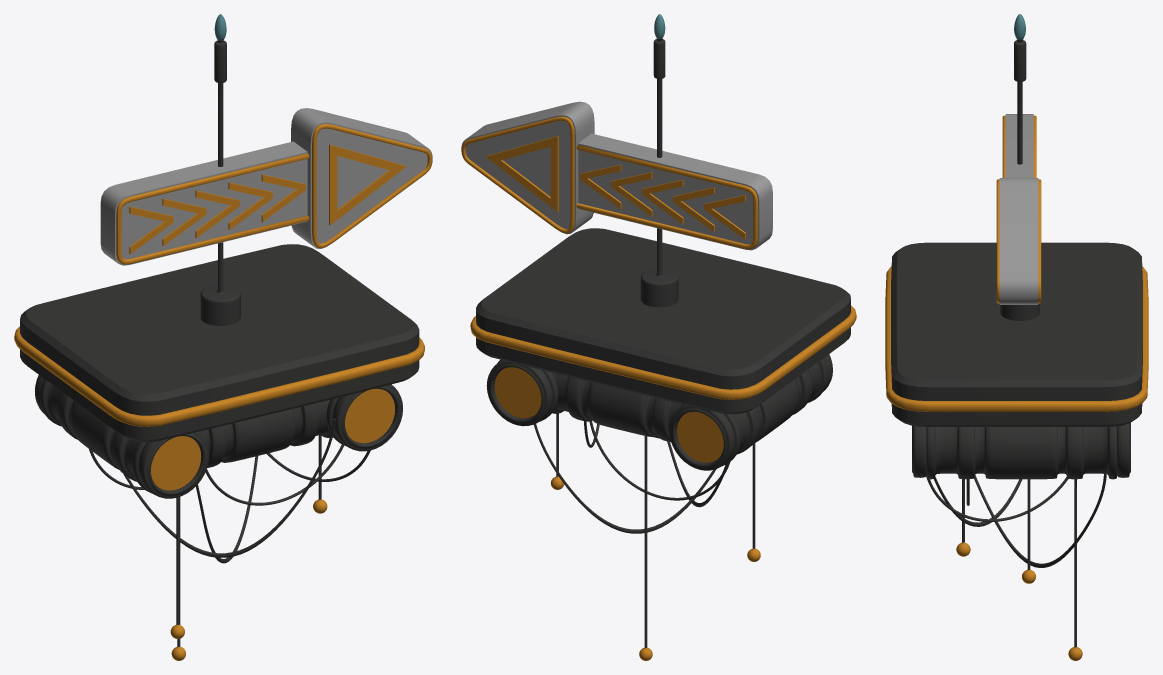
The model's file is Arrow sign.fbx.
The picture shows the model from 3 angles, left to right: view 1: azimuth 30°, elevation 25°; view 2: azimuth 150°, elevation 25°; view 3: azimuth 270°, elevation 25°; orthographic projection. The views are drawn at different scales.
Visible parts, largest first — view 1: Surface, Box320, LED strip (×2), Box321, Pipe02, pole, Pipe06, Pipe05, LED02, LED01, TextPlus085, Pipe01 (+7 smaller); view 2: Surface, Box320, LED strip (×2), Box321, Pipe02, pole, Pipe04, Pipe03, Pipe01, LED02, LED01, TextPlus079 (+8 smaller); view 3: Surface, Pipe01, LED strip (×2), Box321, Box320, pole, Cylinder258, Cylinder262, Cylinder261, Cylinder263.
Part boxes in pixels (x1,y1,x2,y2): Surface: [20, 244, 419, 442]; Box320: [100, 141, 307, 265]; LED strip (×2): [14, 124, 432, 426]; Box321: [291, 108, 432, 248]; Pipe02: [35, 375, 208, 498]; pole: [200, 39, 240, 325]; Pipe06: [256, 400, 333, 456]; Pipe05: [198, 415, 268, 467]; LED02: [345, 388, 395, 443]; LED01: [151, 436, 201, 490]; TextPlus085: [329, 144, 406, 225]; Pipe01: [326, 384, 402, 451]; Surface: [476, 228, 850, 414]; Box320: [578, 133, 772, 250]; LED strip (×2): [461, 116, 856, 399]; Box321: [461, 101, 594, 234]; Pipe02: [669, 354, 832, 470]; pole: [640, 38, 678, 307]; Pipe04: [552, 372, 624, 430]; Pipe03: [613, 388, 681, 441]; Pipe01: [486, 359, 558, 426]; LED02: [494, 367, 541, 418]; LED01: [677, 411, 723, 462]; TextPlus079: [486, 136, 558, 211]; Surface: [891, 242, 1142, 426]; Pipe01: [912, 422, 1130, 479]; LED strip (×2): [885, 115, 1148, 411]; Box321: [999, 178, 1038, 304]; Box320: [1005, 114, 1033, 177]; pole: [1000, 39, 1039, 320]; Cylinder258: [974, 474, 1106, 567]; Cylinder262: [926, 476, 1068, 521]; Cylinder261: [934, 476, 1022, 526]; Cylinder263: [1074, 487, 1076, 647].
Size of the model in its own units: 38.39 by 68.08 by 24.89.
